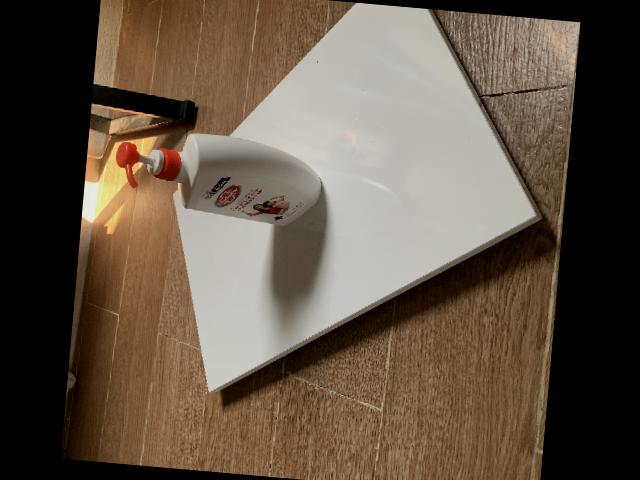life-buoy: (116, 132, 322, 224)
